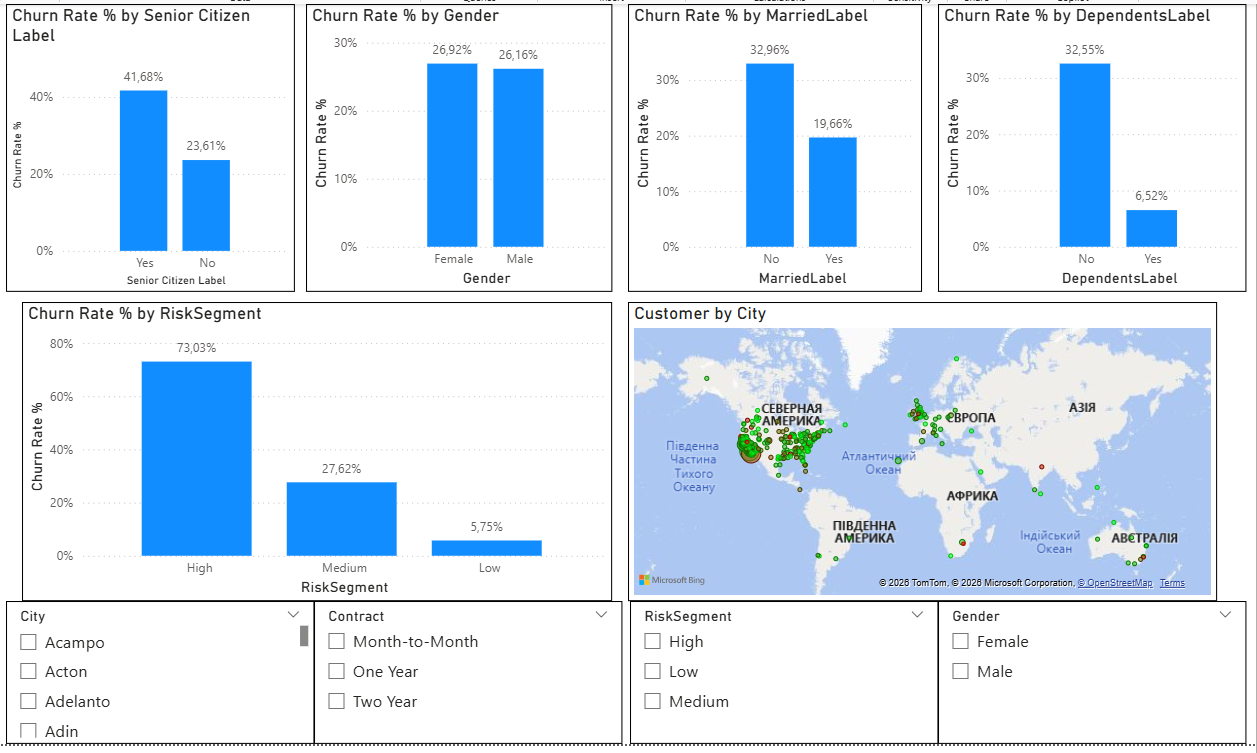

This screenshot's page, from the dashboard's own definition file:
{"tool":"powerbi","page":{"name":"Demographics & Risk Segmentation / Customer Insights","canvas":[1280,720],"ordinal":2},"visuals":[{"type":"clusteredColumnChart","fields":{"Y":["telco_features.ChurnRatePercent_Demo"],"Category":["telco_features.SeniorCitizenLabel"]},"box":[64.2,0,281.1,280.1],"z":0},{"type":"clusteredColumnChart","fields":{"Category":["telco_features.Gender"],"Y":["telco_features.ChurnRatePercent_Demo"]},"box":[356,0,297.6,280.1],"z":1000},{"type":"clusteredColumnChart","fields":{"Category":["telco_features.MarriedLabel"],"Y":["telco_features.ChurnRatePercent_Demo"]},"box":[669.2,0,286,280.1],"z":2000},{"type":"clusteredColumnChart","fields":{"Category":["telco_features.DependentsLabel"],"Y":["telco_features.ChurnRatePercent_Demo"]},"box":[970.7,0,299.6,280.1],"z":3000},{"type":"clusteredColumnChart","fields":{"Category":["telco_features.RiskSegment"],"Y":["telco_features.Churn Rate % Risk"]},"box":[79.8,289.8,573.9,290.8],"z":4000},{"type":"map","title":"Customer by City","fields":{"Category":["telco_features.City"],"Size":["CountNonNull(telco_features.CustomerID)"]},"box":[669.2,289.8,572.9,290.8],"z":5000},{"type":"slicer","fields":{"Values":["telco_features.City"]},"box":[64.2,580.7,299.6,139.1],"z":6000},{"type":"slicer","fields":{"Values":["telco_features.Contract"]},"box":[363.8,580.7,299.6,139.1],"z":7000},{"type":"slicer","fields":{"Values":["telco_features.RiskSegment"]},"box":[671.1,580.7,299.6,139.1],"z":8000},{"type":"slicer","fields":{"Values":["telco_features.Gender"]},"box":[970.7,580.7,299.6,139.1],"z":9000}]}

Visuals, with their boxes in screenshot pixels (x1, y1, x2, y2):
clusteredColumnChart - telco_features.ChurnRatePercent_Demo x telco_features.SeniorCitizenLabel: 0, 0, 284, 285
clusteredColumnChart - telco_features.Gender x telco_features.ChurnRatePercent_Demo: 295, 0, 605, 285
clusteredColumnChart - telco_features.MarriedLabel x telco_features.ChurnRatePercent_Demo: 621, 0, 919, 285
clusteredColumnChart - telco_features.DependentsLabel x telco_features.ChurnRatePercent_Demo: 935, 0, 1247, 285
clusteredColumnChart - telco_features.RiskSegment x telco_features.Churn Rate % Risk: 8, 295, 605, 598
"Customer by City" map: 621, 295, 1218, 598
slicer - telco_features.City: 0, 598, 303, 743
slicer - telco_features.Contract: 303, 598, 615, 743
slicer - telco_features.RiskSegment: 623, 598, 935, 743
slicer - telco_features.Gender: 935, 598, 1247, 743
